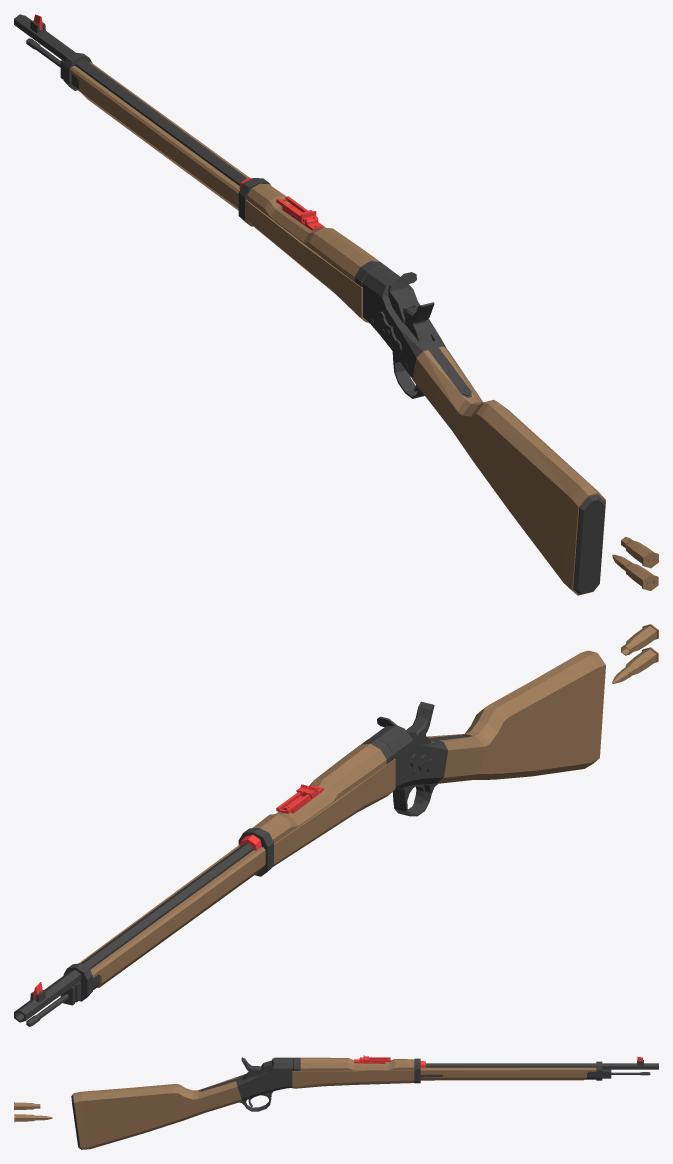
File: sniper_5.glb
3 views of the same model, one above another, from view 1: azimuth 30°, elevation 25°; view 2: azimuth 150°, elevation 25°; view 3: azimuth 270°, elevation 25° (orthographic). The views are drawn at different scales.
Parts seen in each view (by area): view 1: p35_accent, p6_accent, p21_paint, p12_accent, p0_paint, p13_accent, p37_paint, p23_paint, p31_paint; view 2: p35_accent, p6_accent, p12_accent, p0_paint, p13_accent, p21_paint, p25_paint, p38_accent, p31_paint, p11_paint, p39_accent; view 3: p35_accent, p6_accent, p13_accent, p21_paint, p12_accent, p0_paint, p38_accent, p31_paint, p25_paint, p39_accent, p11_paint.
Part boxes in pixels (bbox=[...]): p35_accent: bbox=[412, 346, 605, 595]; p6_accent: bbox=[69, 62, 249, 210]; p21_paint: bbox=[362, 267, 471, 397]; p12_accent: bbox=[247, 183, 379, 281]; p0_paint: bbox=[14, 14, 246, 185]; p13_accent: bbox=[245, 200, 368, 322]; p37_paint: bbox=[573, 495, 605, 594]; p23_paint: bbox=[388, 272, 417, 324]; p31_paint: bbox=[403, 302, 434, 343]; p35_accent: bbox=[427, 650, 605, 783]; p6_accent: bbox=[78, 844, 265, 987]; p12_accent: bbox=[253, 743, 386, 843]; p0_paint: bbox=[14, 843, 253, 1022]; p13_accent: bbox=[273, 758, 395, 866]; p21_paint: bbox=[368, 725, 471, 789]; p25_paint: bbox=[392, 783, 437, 816]; p38_accent: bbox=[612, 647, 658, 683]; p31_paint: bbox=[406, 701, 434, 744]; p11_paint: bbox=[238, 828, 273, 876]; p39_accent: bbox=[621, 624, 658, 655]; p35_accent: bbox=[73, 1077, 242, 1149]; p6_accent: bbox=[420, 1067, 596, 1080]; p13_accent: bbox=[292, 1070, 414, 1088]; p21_paint: bbox=[199, 1057, 292, 1100]; p12_accent: bbox=[300, 1057, 414, 1070]; p0_paint: bbox=[426, 1063, 658, 1069]; p38_accent: bbox=[14, 1114, 52, 1122]; p31_paint: bbox=[241, 1057, 261, 1079]; p25_paint: bbox=[239, 1091, 273, 1111]; p39_accent: bbox=[14, 1102, 40, 1110]; p11_paint: bbox=[414, 1058, 420, 1083].
Bounding box in the file's own units: 0.0432 × 0.1956 × 1.25.
